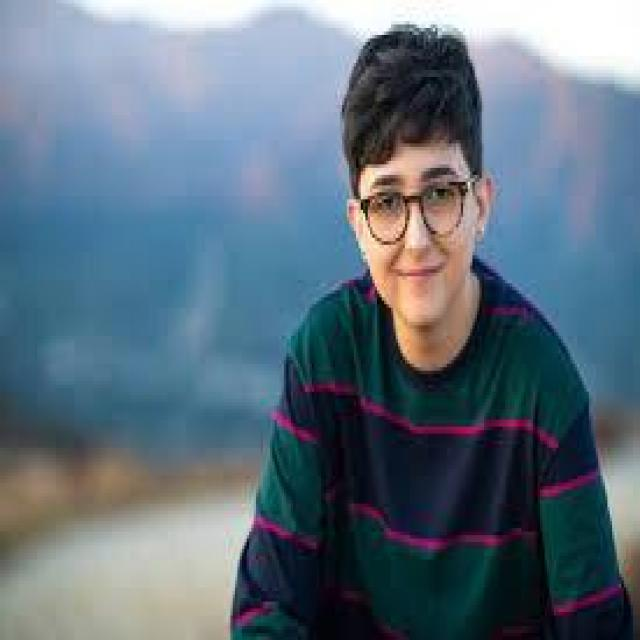person: (205, 18, 626, 636)
